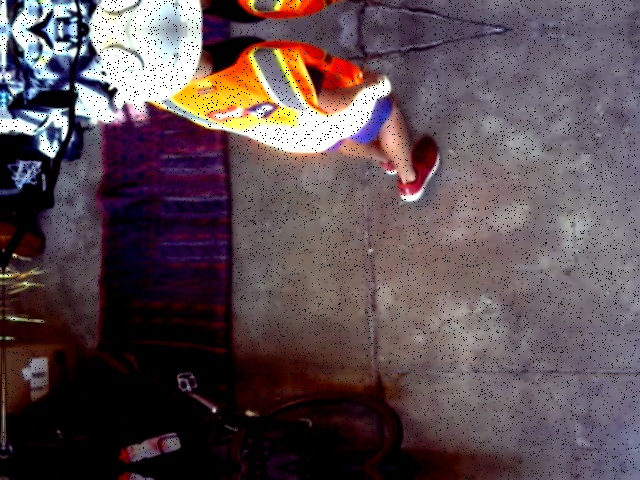two: (99, 45, 142, 77)
